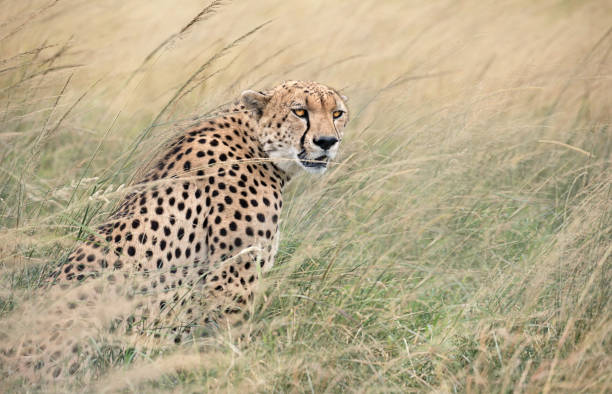cheetah: (238, 73, 357, 185)
